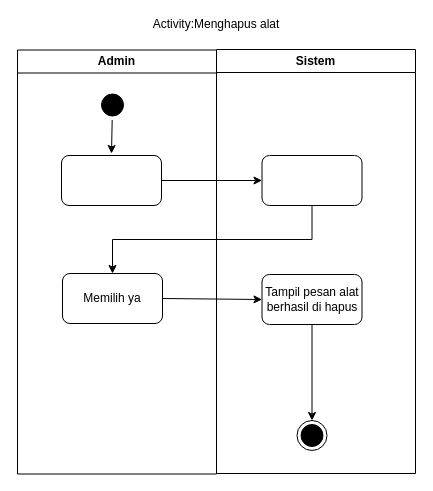
Some shapes in this 433 by 491 pixel diagram are drawn without their labels. Here are the shapes that lost their labels. From the top down, the centre of each, then its label:
the point at 111,180: Memilih ikon hapus alat
the point at 311,180: Tampil ya dan tidak
